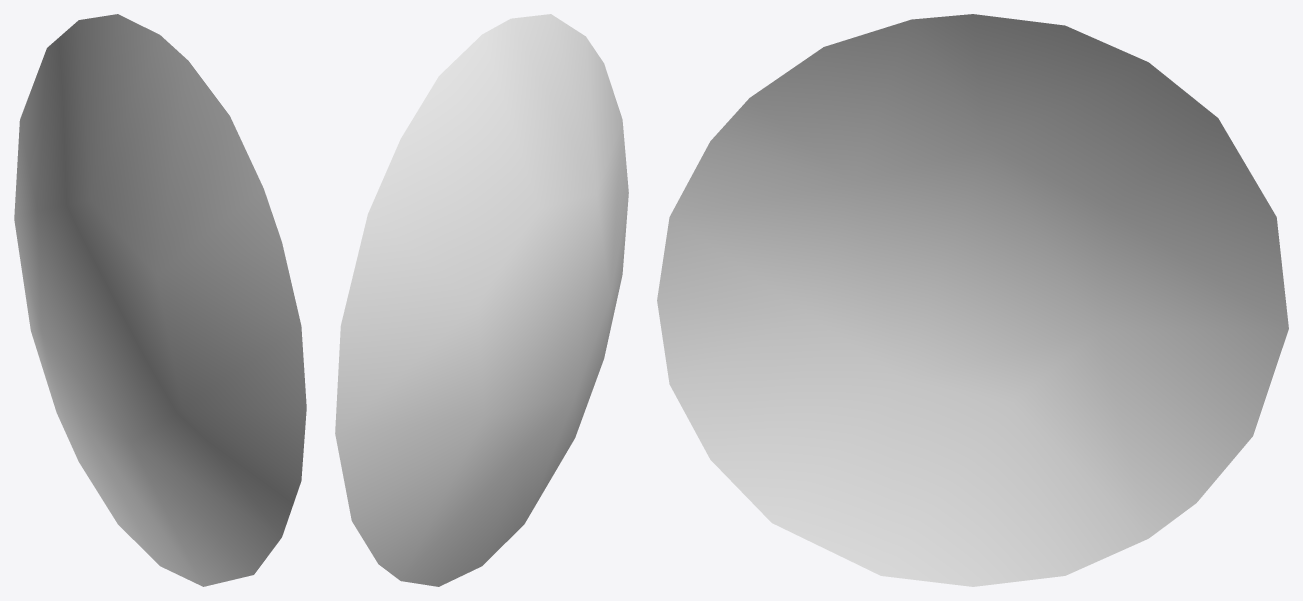
3 views of the same model, side by side, from view 1: azimuth 30°, elevation 25°; view 2: azimuth 150°, elevation 25°; view 3: azimuth 270°, elevation 25° (orthographic). The views are drawn at different scales.
Bounding box in the file's own units: 0.0317 × 0.2531 × 0.2529.
Materials: 1 (1 with a texture image).
